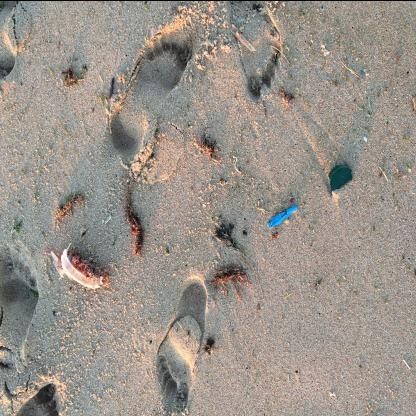plastik: (50, 241, 104, 288), (328, 164, 354, 193), (268, 204, 298, 228), (231, 22, 256, 50)
